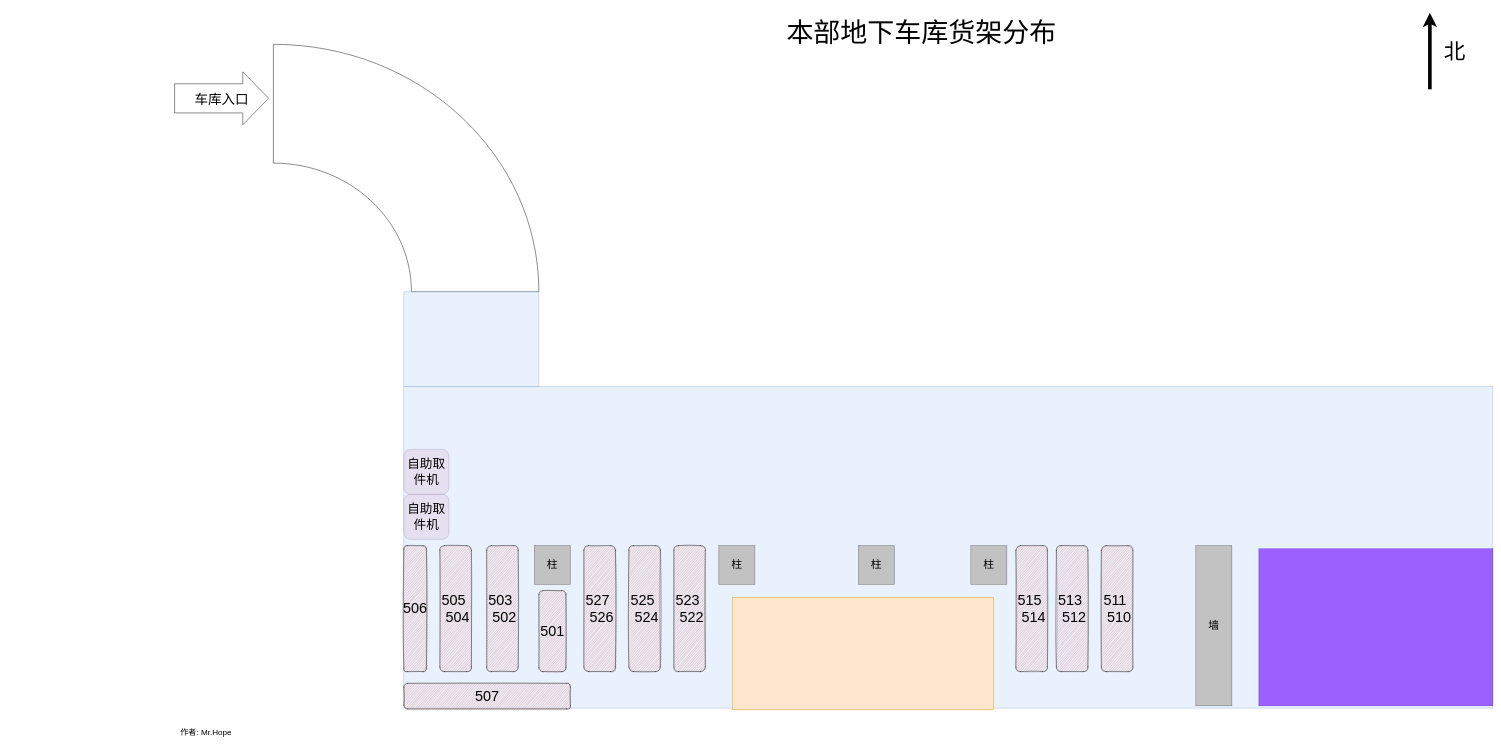
The diagram is 1501 pixels wide and 749 high, and some of its shapes have lost their labels. Each missing label, with the box of its shape:
大件行李 550 551: (1258, 548, 1493, 706)
杂物区: (732, 597, 993, 710)
